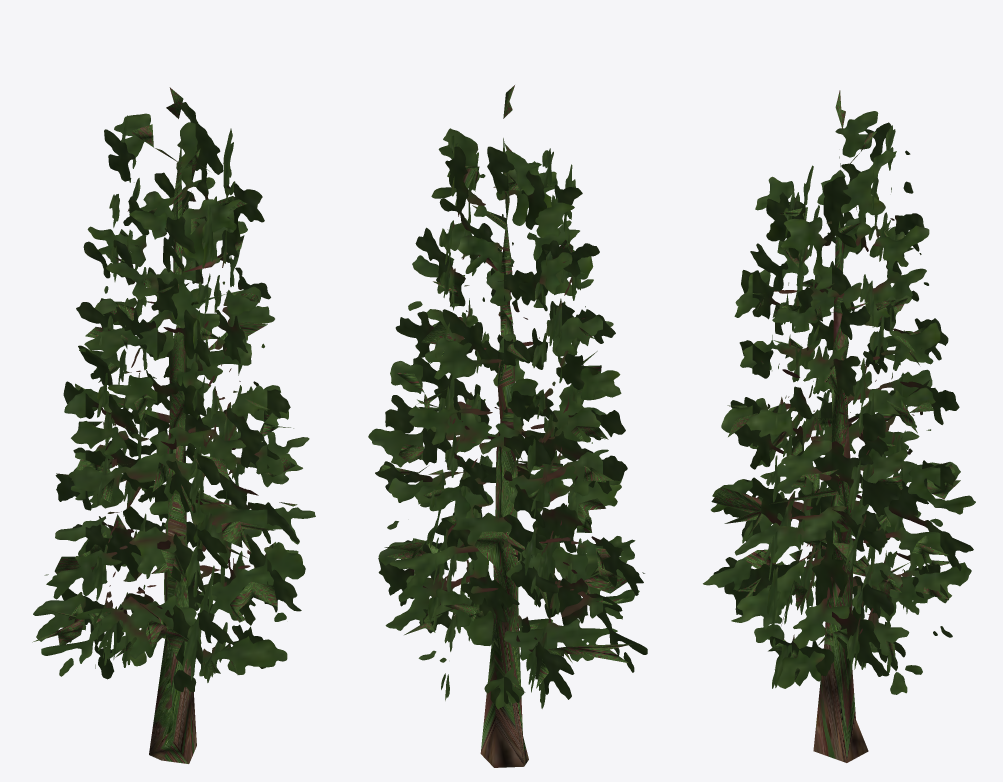
The model's file is tree_veryhigh.glb.
3 renders of one model, left to right at view 1: azimuth 30°, elevation 25°; view 2: azimuth 150°, elevation 25°; view 3: azimuth 270°, elevation 25°, orthographic. The views are drawn at different scales.
Parts seen in each view (by area): view 1: tree_veryhigh; view 2: tree_veryhigh; view 3: tree_veryhigh.
Boxes of the visible parts, <box> form: tree_veryhigh: <box>32,87,315,763</box>; tree_veryhigh: <box>368,85,647,767</box>; tree_veryhigh: <box>703,90,975,762</box>.
Bounding box in the file's own units: 0.4507 × 0.9864 × 0.3989.
1 material, 1 textured.
